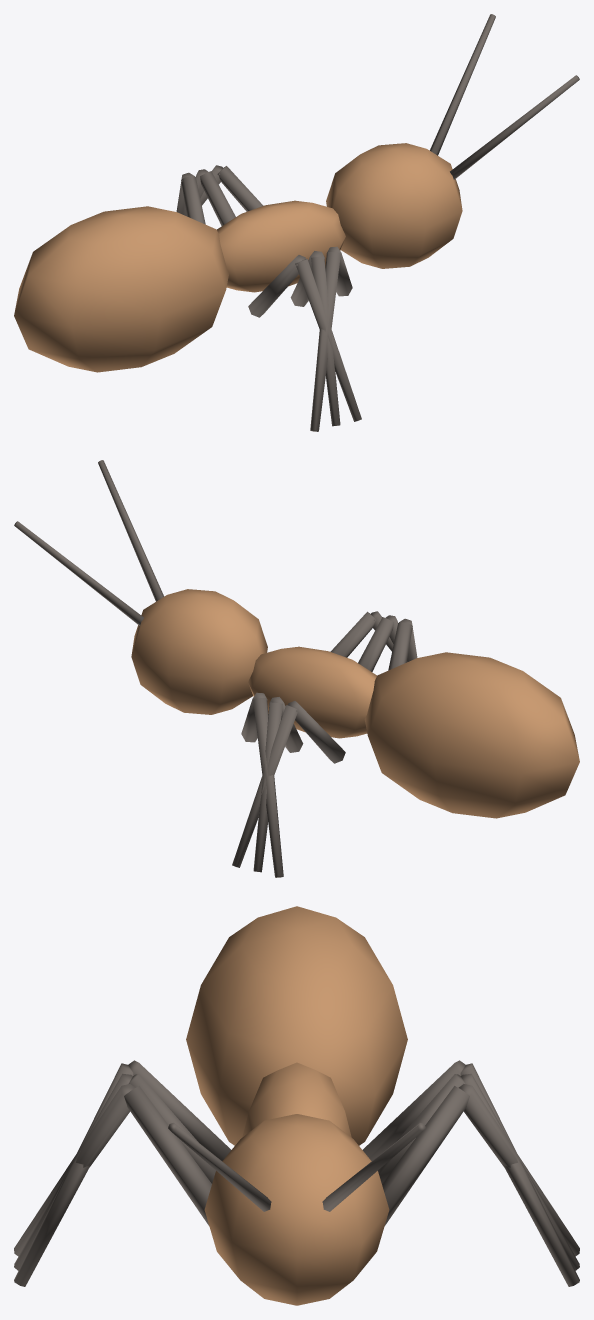
The model's file is big-headed-ant.glb.
3 renders of one model, top to bottom at view 1: azimuth 30°, elevation 25°; view 2: azimuth 150°, elevation 25°; view 3: azimuth 270°, elevation 25°, orthographic. The views are drawn at different scales.
Parts seen in each view (by area): view 1: e; view 2: e; view 3: e.
Boxes of the visible parts, <box> form: e: <box>14,14,579,431</box>; e: <box>14,460,579,877</box>; e: <box>14,906,579,1305</box>.
Bounding box in the file's own units: 0.2409 × 0.1069 × 0.153.
